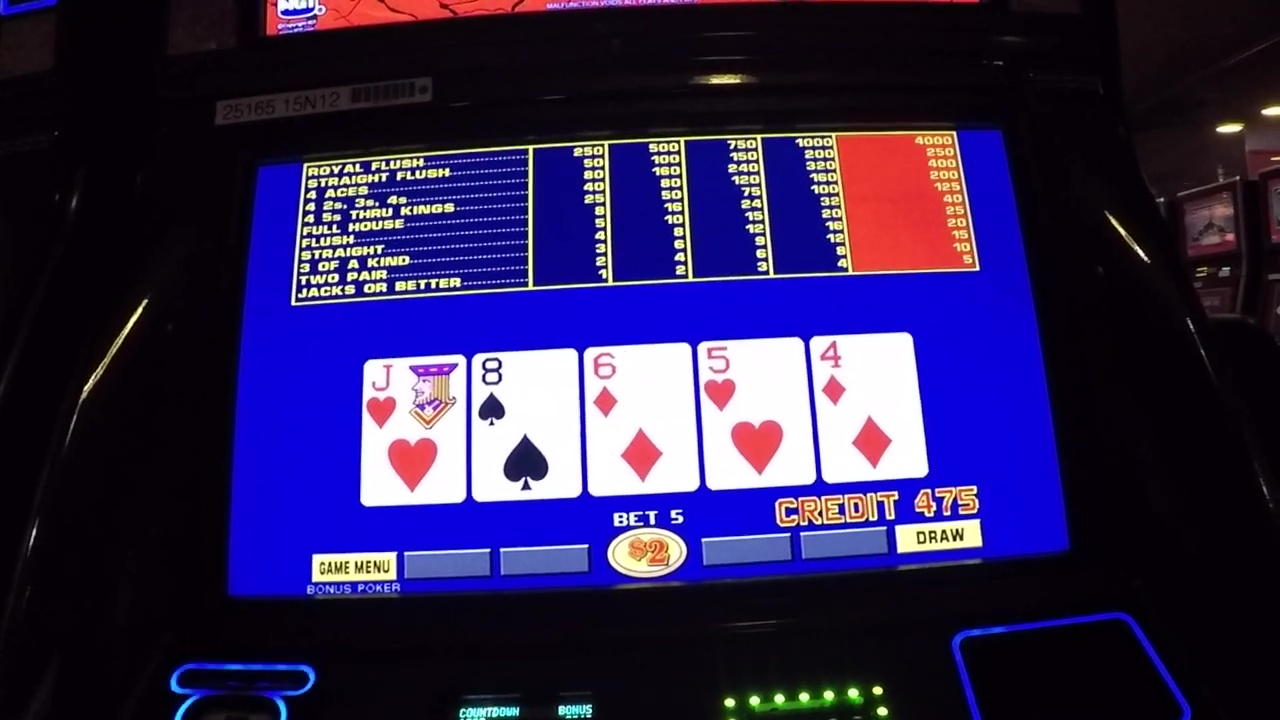D4: (815, 336, 913, 409)
D5: (703, 344, 804, 420)
D6: (587, 349, 690, 419)
HJ: (366, 363, 461, 430)
S8: (475, 356, 578, 426)
